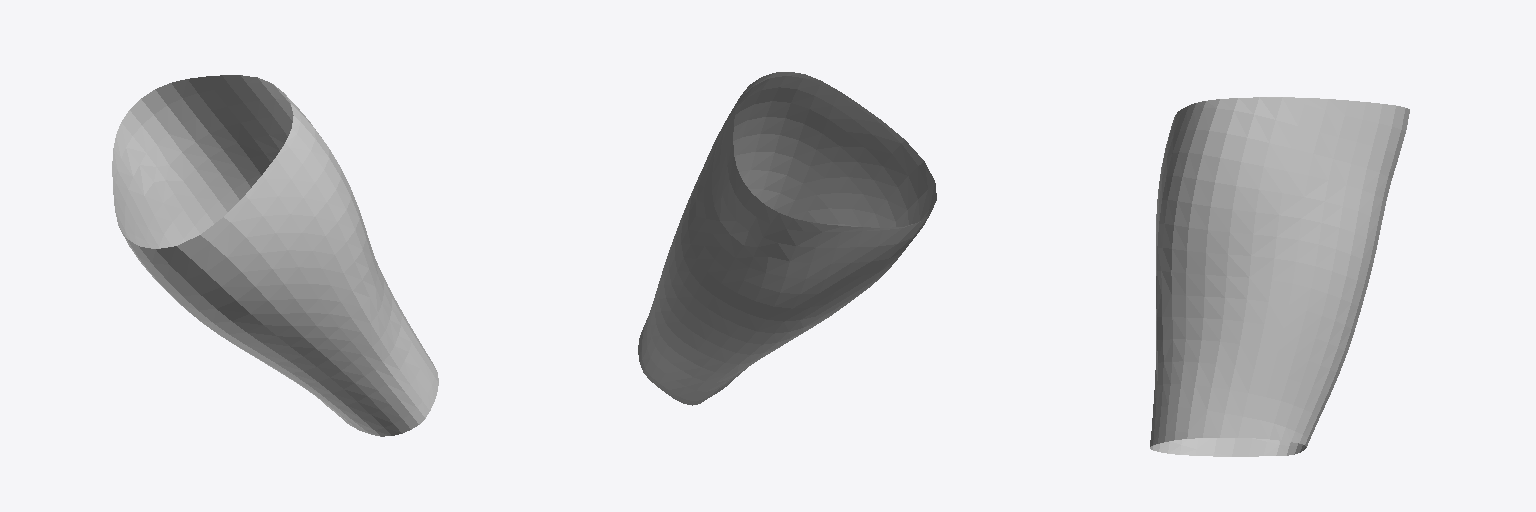
The model's file is mana2S.obj.
3 renders of one model, left to right at view 1: azimuth 30°, elevation 25°; view 2: azimuth 150°, elevation 25°; view 3: azimuth 270°, elevation 25°, orthographic.
Parts seen in each view (by area): view 1: mana2S; view 2: mana2S; view 3: mana2S.
Boxes of the visible parts, box(x1,y1,x2,y2) form: mana2S: box(112, 75, 438, 436); mana2S: box(638, 72, 936, 405); mana2S: box(1150, 97, 1409, 456).
Bounding box in the file's own units: 1.79 × 2.03 × 1.43.